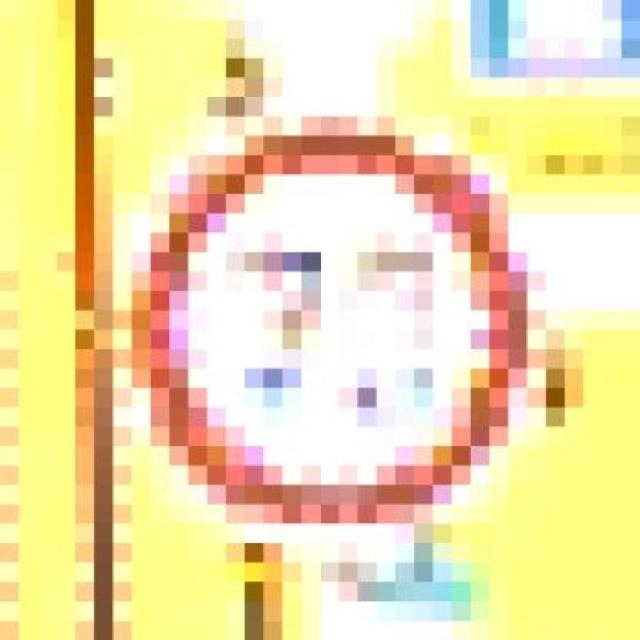forb_speed_over_70: (140, 124, 526, 527)
